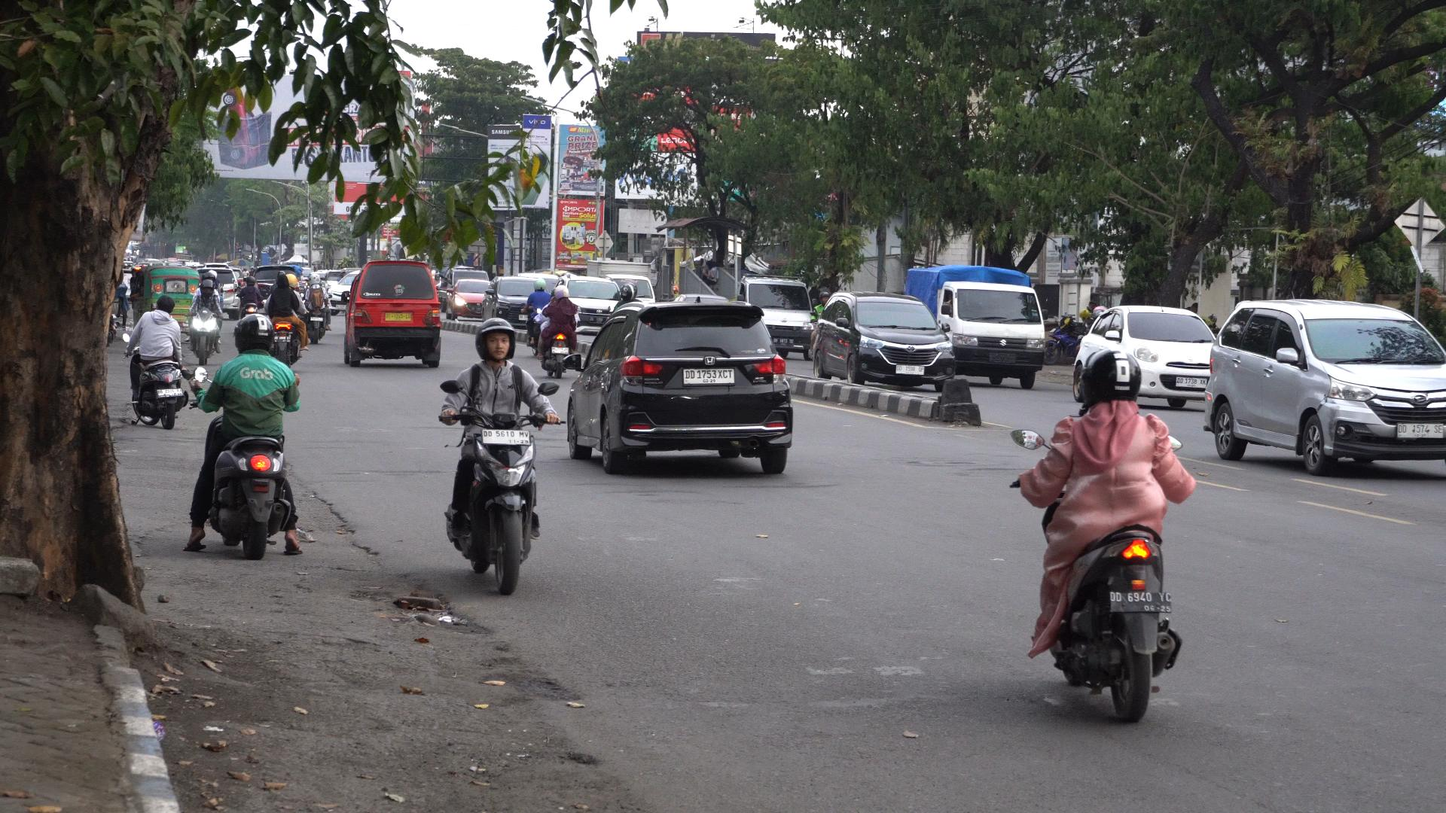number-plate: (479, 427, 530, 443)
